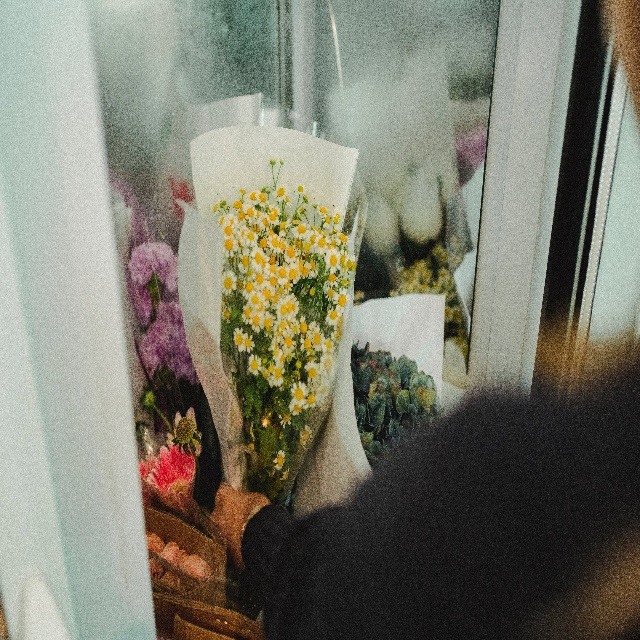Sin_guantes: (214, 480, 266, 564)
